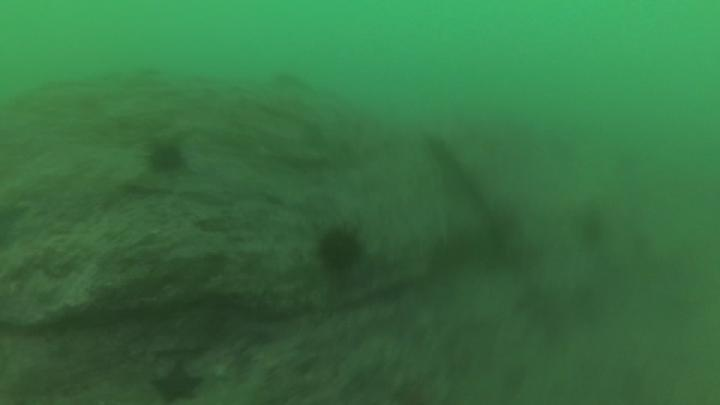echinus: (319, 230, 362, 271), (147, 145, 184, 170)
starfish: (150, 364, 205, 404)
